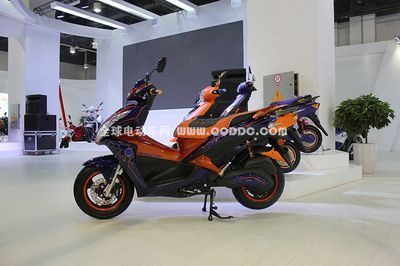non-vehicle: (75, 70, 288, 219), (168, 82, 302, 165), (225, 81, 329, 146)
